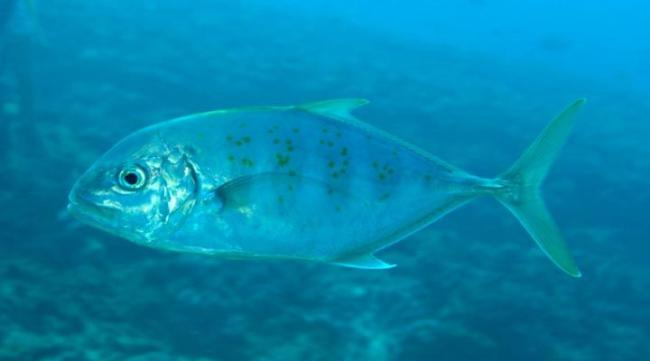fish: (67, 98, 583, 279)
